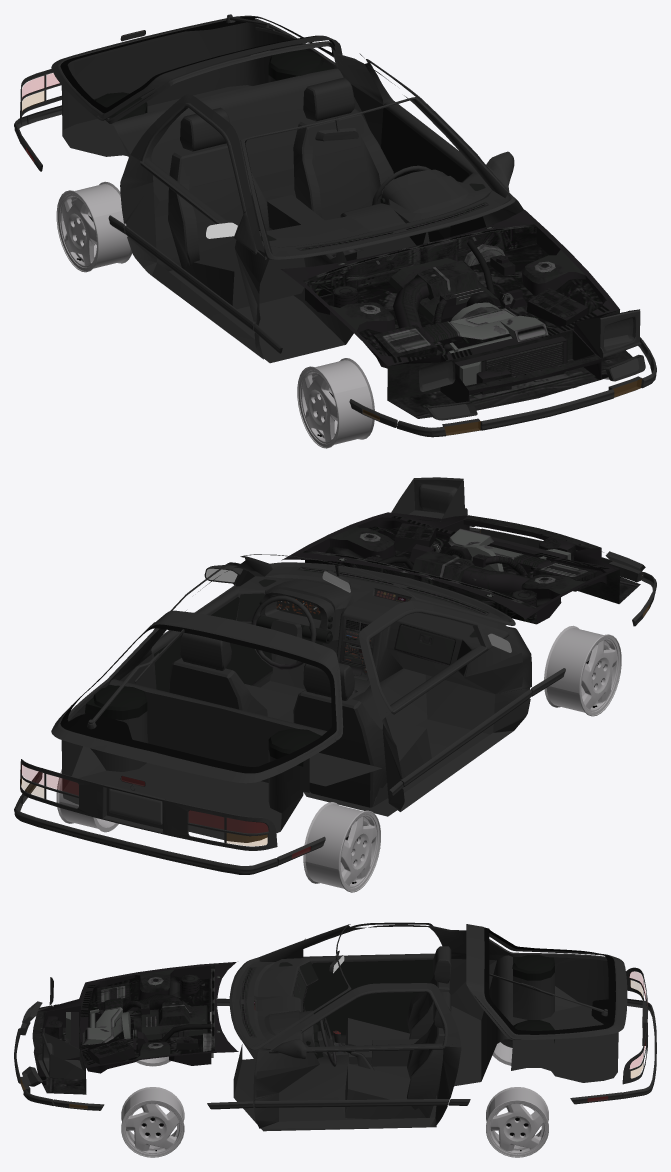
3 views of the same model, one above another, from view 1: azimuth 30°, elevation 25°; view 2: azimuth 150°, elevation 25°; view 3: azimuth 270°, elevation 25° (orthographic). The views are drawn at different scales.
Visible parts, largest first — view 1: fc_n:lod12, fc_n:lod14, fc_n:lod10, fc_n:lod13, fc_n:lod0; view 2: fc_n:lod12, fc_n:lod14, fc_n:lod10, fc_n:lod13, fc_n:lod0, fc_n:lod11; view 3: fc_n:lod12, fc_n:lod14, fc_n:lod10, fc_n:lod13, fc_n:lod0.
Boxes of the visible parts, x1,y1,x2,y2 form: fc_n:lod12: [61, 22, 632, 418]; fc_n:lod14: [14, 14, 656, 437]; fc_n:lod10: [56, 181, 609, 448]; fc_n:lod13: [60, 16, 334, 238]; fc_n:lod0: [22, 73, 641, 434]; fc_n:lod12: [61, 512, 640, 842]; fc_n:lod14: [14, 477, 656, 874]; fc_n:lod10: [56, 625, 621, 892]; fc_n:lod13: [60, 568, 511, 773]; fc_n:lod0: [21, 605, 649, 858]; fc_n:lod11: [109, 788, 162, 824]; fc_n:lod12: [32, 924, 618, 1131]; fc_n:lod14: [14, 922, 656, 1110]; fc_n:lod10: [121, 1039, 548, 1157]; fc_n:lod13: [304, 927, 615, 1034]; fc_n:lod0: [21, 971, 645, 1108].
Size of what is drawn, in the model's own units: 0.0178 by 0.0114 by 0.0427.
Materials: 8 (2 with a texture image).
